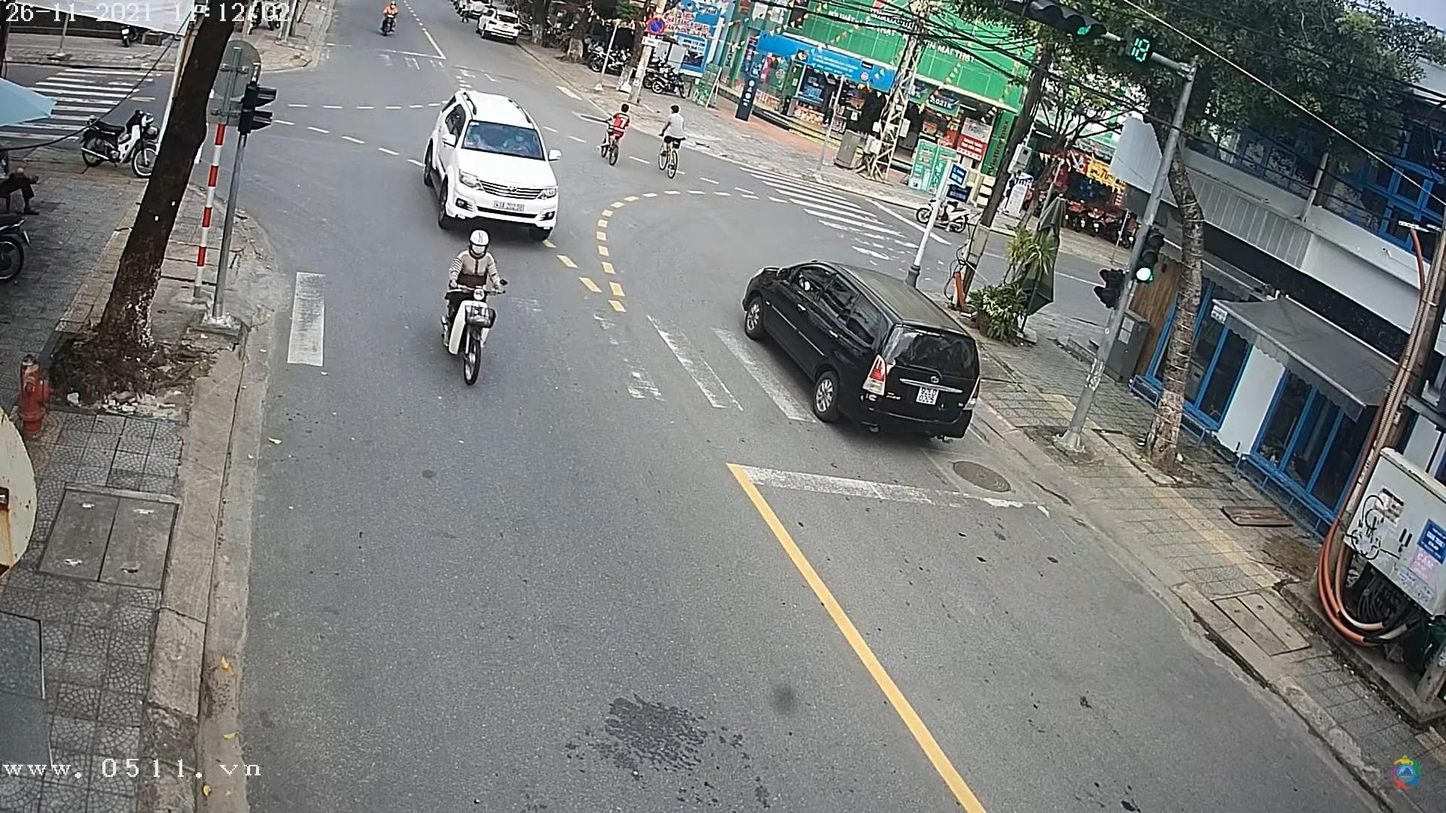car: (424, 96, 564, 241)
motorbike: (438, 230, 512, 390)
